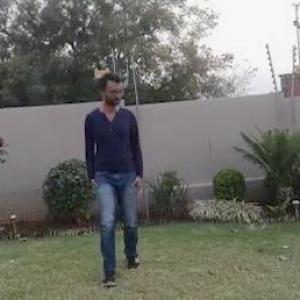follow: (85, 70, 153, 288)
